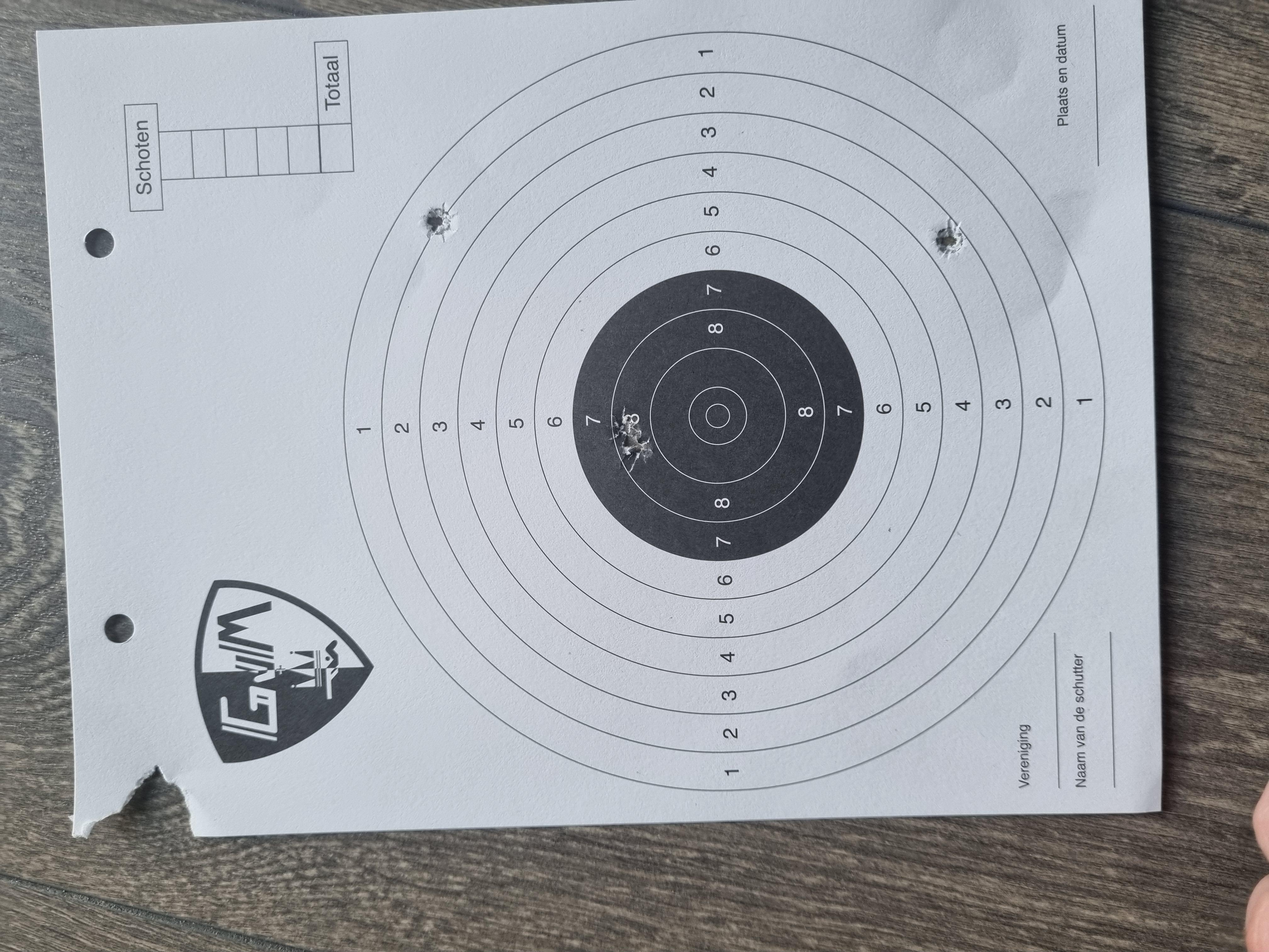hole: (946, 318, 1000, 341), (642, 465, 686, 490), (683, 457, 726, 481), (930, 701, 975, 723)
